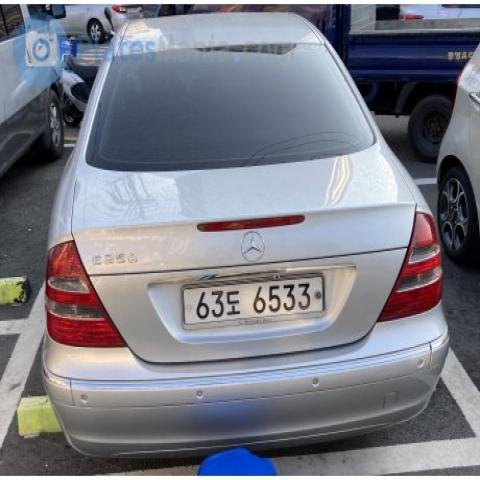LP: (174, 263, 338, 346)
